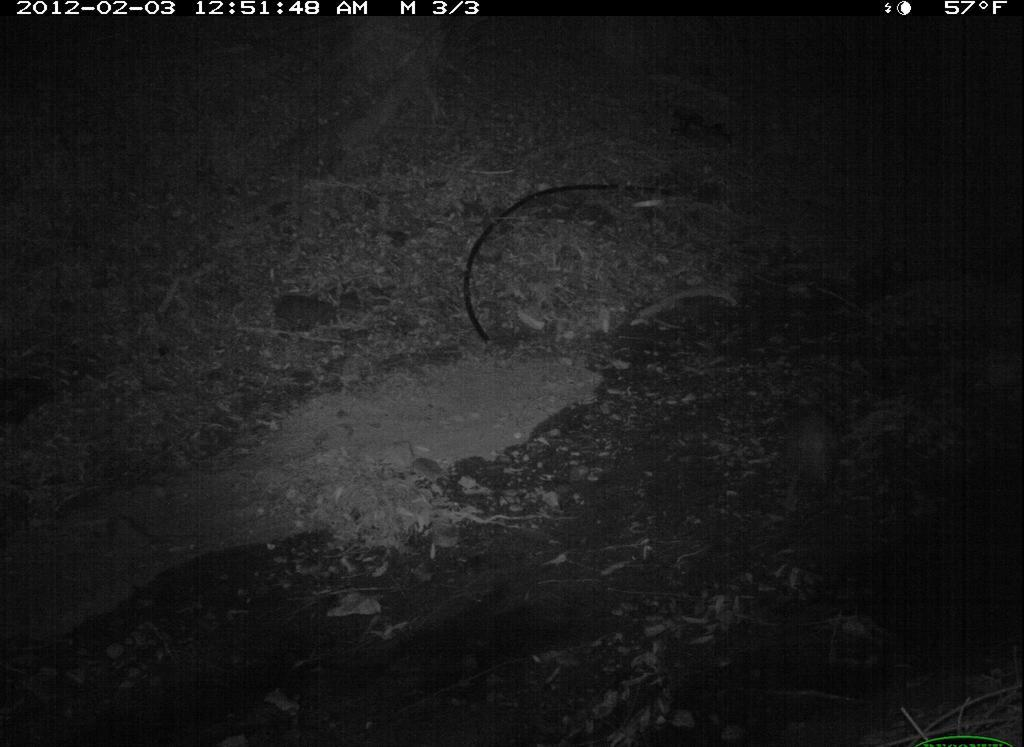opossum: (783, 386, 856, 527)
